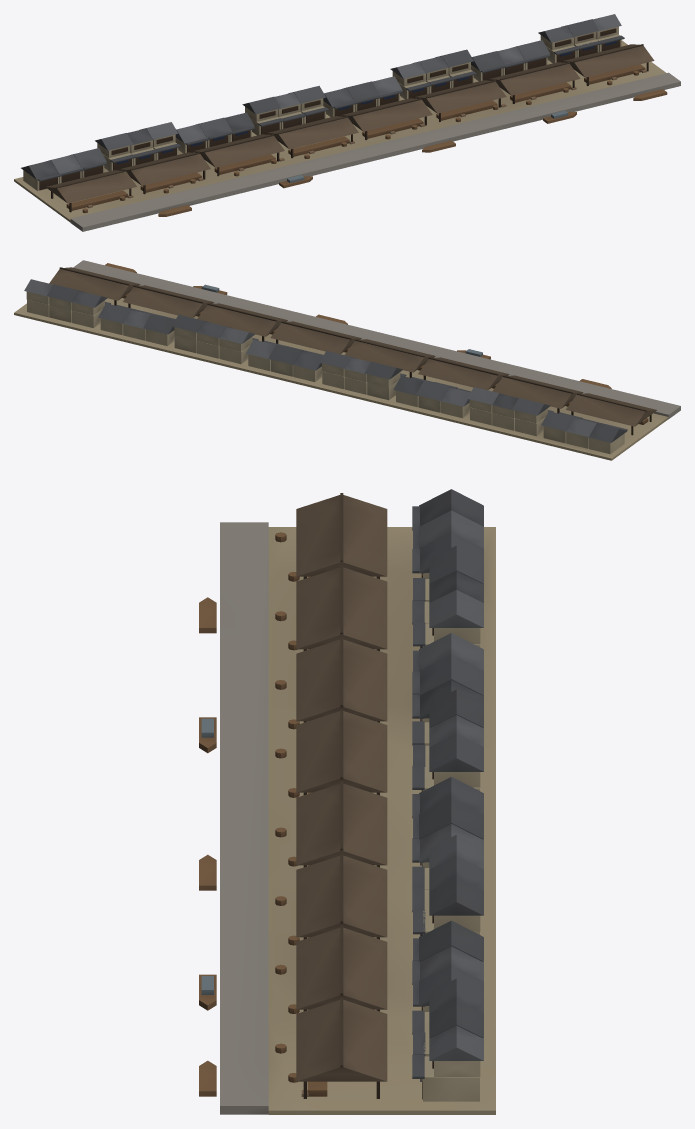
The model's file is fish-market.glb.
The picture shows the model from 3 angles, top to bottom: view 1: azimuth 30°, elevation 25°; view 2: azimuth 150°, elevation 25°; view 3: azimuth 270°, elevation 25°; orthographic projection. The views are drawn at different scales.
Visible parts, largest first — view 1: p1_sheds, p0_quay, p2_goods; view 2: p1_sheds, p0_quay, p2_goods; view 3: p1_sheds, p0_quay, p2_goods.
Boxes of the visible parts, <box> form: p1_sheds: <box>21,14,654,212</box>; p0_quay: <box>14,40,680,231</box>; p2_goods: <box>82,69,667,216</box>; p1_sheds: <box>24,267,657,454</box>; p0_quay: <box>14,260,680,460</box>; p2_goods: <box>105,263,611,388</box>; p1_sheds: <box>296,489,483,1101</box>; p0_quay: <box>220,522,495,1114</box>; p2_goods: <box>199,532,308,1096</box>.
Size of the model in its own units: 170 by 8.47 by 36.6.
